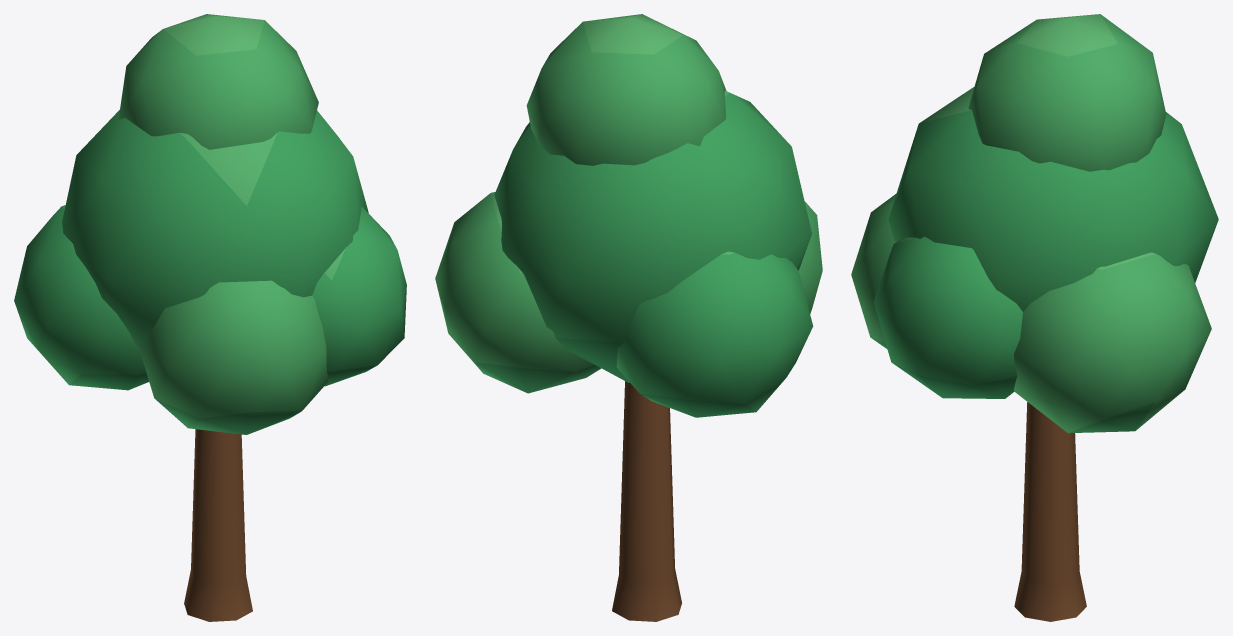
File: mint-deco1.glb
3 views of the same model, side by side, from view 1: azimuth 30°, elevation 25°; view 2: azimuth 150°, elevation 25°; view 3: azimuth 270°, elevation 25° (orthographic).
Parts seen in each view (by area): view 1: mint-deco1; view 2: mint-deco1; view 3: mint-deco1.
Part boxes in pixels (left/top/right/bottom): mint-deco1: left=14, top=14, right=406, bottom=621; mint-deco1: left=435, top=14, right=822, bottom=621; mint-deco1: left=851, top=14, right=1218, bottom=621.
Size of the model in its own units: 2.31 by 3.82 by 2.15.
